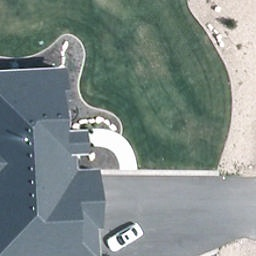car: (105, 222, 147, 253)
